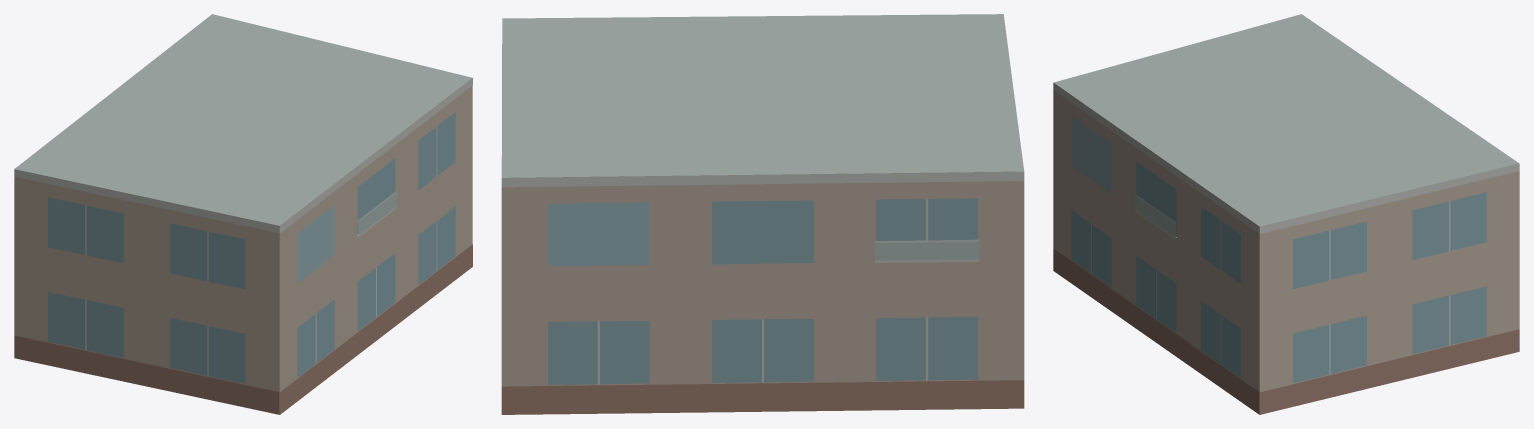
Rendered from survey-upis-32674346.glb.
3 views of the same model, side by side, from view 1: azimuth 30°, elevation 25°; view 2: azimuth 150°, elevation 25°; view 3: azimuth 270°, elevation 25° (orthographic). The views are drawn at different scales.
Parts seen in each view (by area): view 1: survey-upis-32674346.tmp; view 2: survey-upis-32674346.tmp; view 3: survey-upis-32674346.tmp.
Part boxes in pixels (x1,y1,x2,y2): survey-upis-32674346.tmp: [14, 14, 472, 414]; survey-upis-32674346.tmp: [501, 14, 1024, 414]; survey-upis-32674346.tmp: [1053, 14, 1519, 414].
Size of the model in its own units: 14.78 by 6.1 by 13.7.
